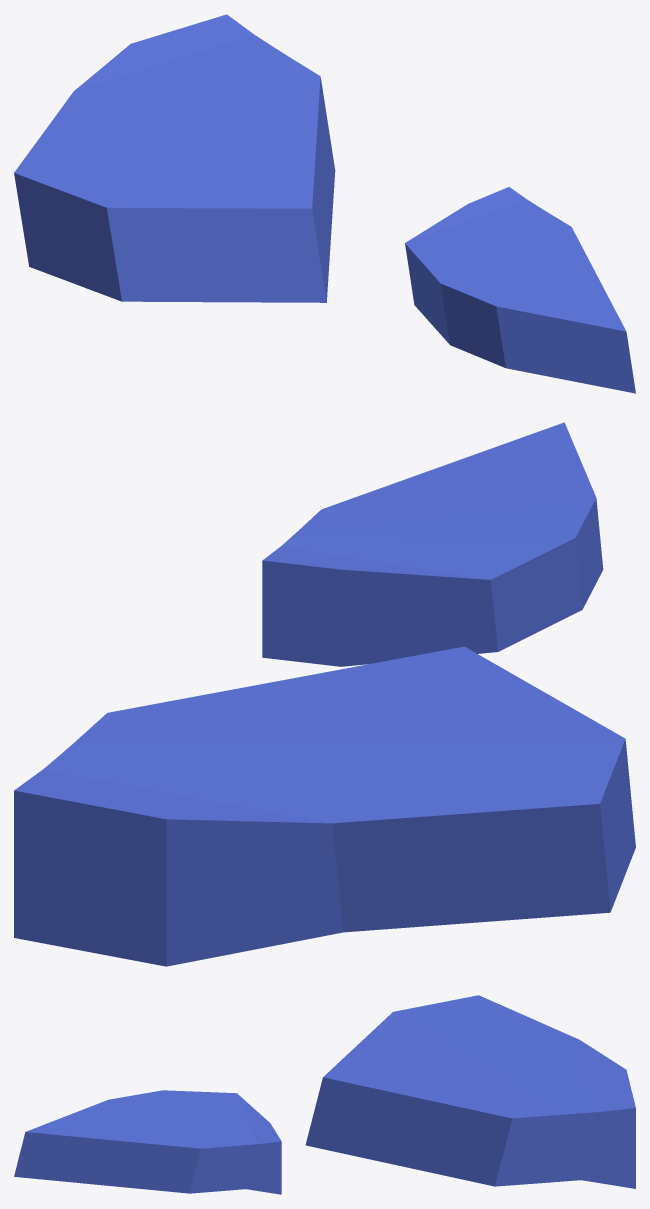
The model's file is koifishLeftFin.glb.
3 views of the same model, one above another, from view 1: azimuth 30°, elevation 25°; view 2: azimuth 150°, elevation 25°; view 3: azimuth 270°, elevation 25° (orthographic). The views are drawn at different scales.
Parts seen in each view (by area): view 1: Fin2; view 2: Fin2; view 3: Fin2.
Boxes of the visible parts, x1=… form: Fin2: x1=14, y1=14, x2=635, y2=393; Fin2: x1=14, y1=422, x2=635, y2=966; Fin2: x1=14, y1=995, x2=635, y2=1194.
Size of the model in its own units: 4.66 by 1.23 by 8.56.
